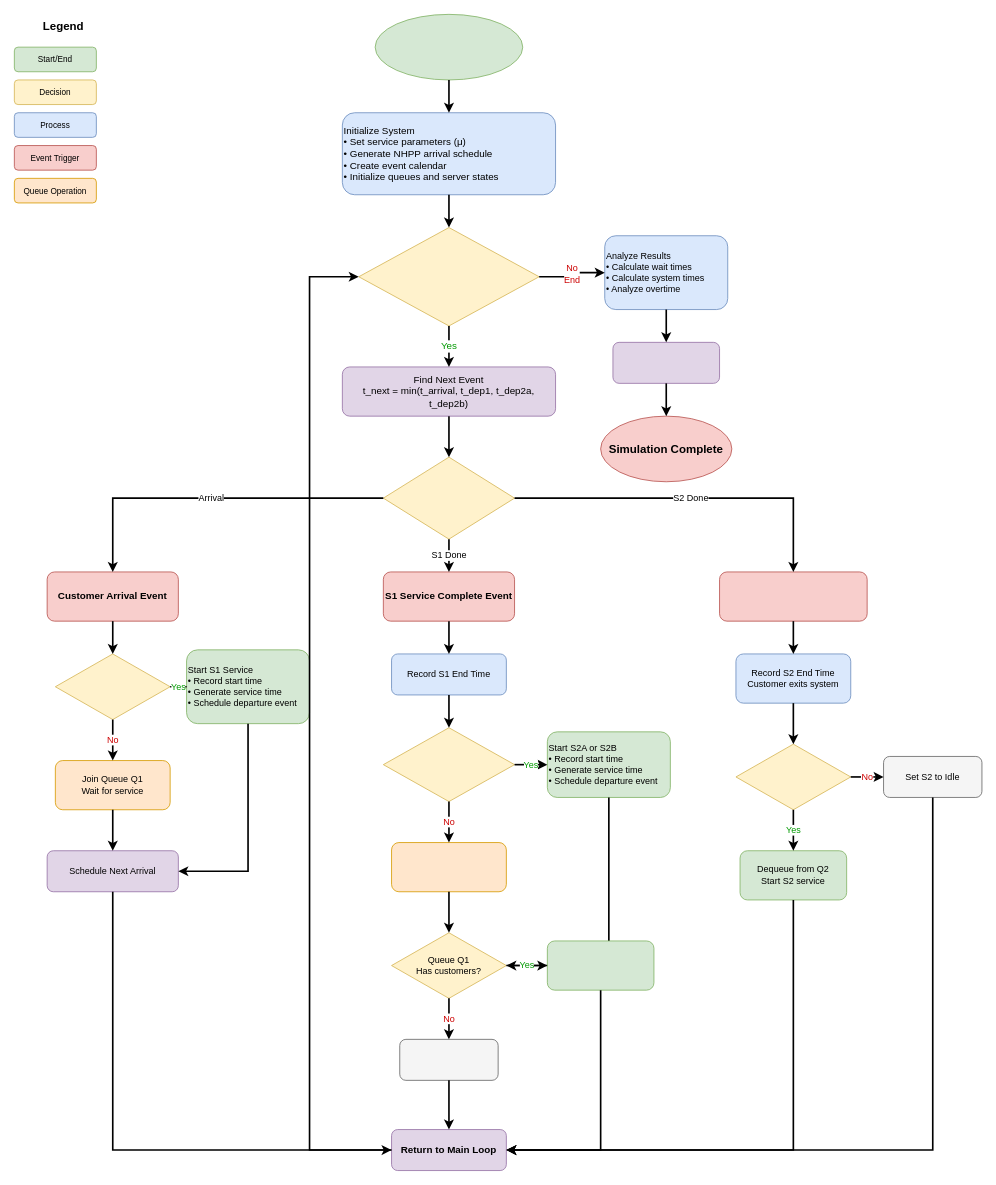
Image size: 996x1185. Some labels were removed from this diagram. The shapes that lost their labels are listed below. From the top down, each one's centre as x and y in pixels, then its label:
the point at 448,47: Start Simulation
the point at 448,276: Main Loop Condition More arrivals OR Customers in system?
the point at 666,362: Generate Visualizations
the point at 449,497: Event Type?
the point at 793,596: S2A/S2B Service Complete Event
the point at 112,686: Service Window S1 Idle?
the point at 449,764: Catering Window S2A or S2B Idle?
the point at 793,776: Queue Q2 Has customers?
the point at 448,867: Join Queue Q2 Wait for catering
the point at 600,965: Dequeue from Q1 Start S1 service
the point at 448,1059: Set S1 to Idle
